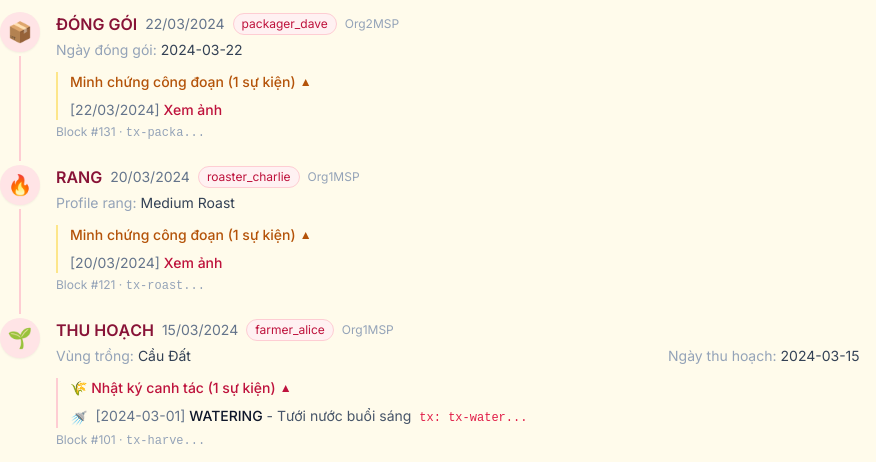
Test: TraceTimeline › toggle được farm activity accordion ở bước HARVEST
Expected: the text "- Tưới nước buổi sáng" is shown, [263, 407, 411, 424]
Click the button "🌾 Nhật ký canh tác (1 sự kiện) ▲".
click(181, 388)  # box [70, 378, 292, 398]
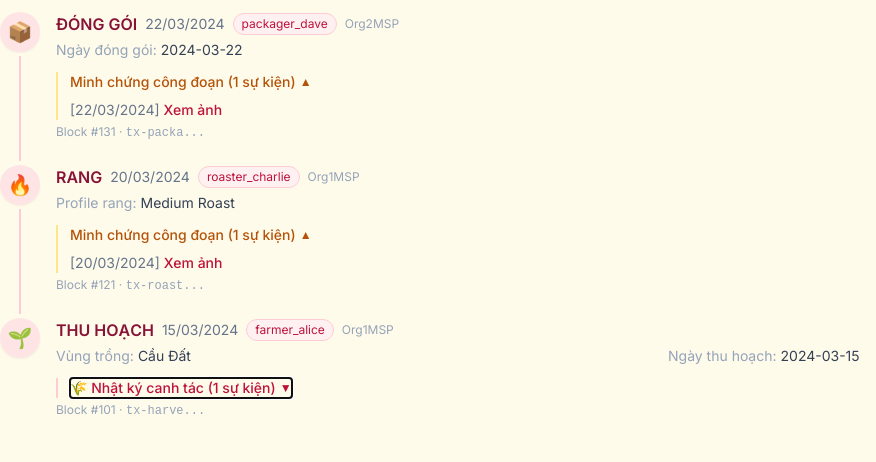
Now the text "Tưới nước buổi sáng" is gone
